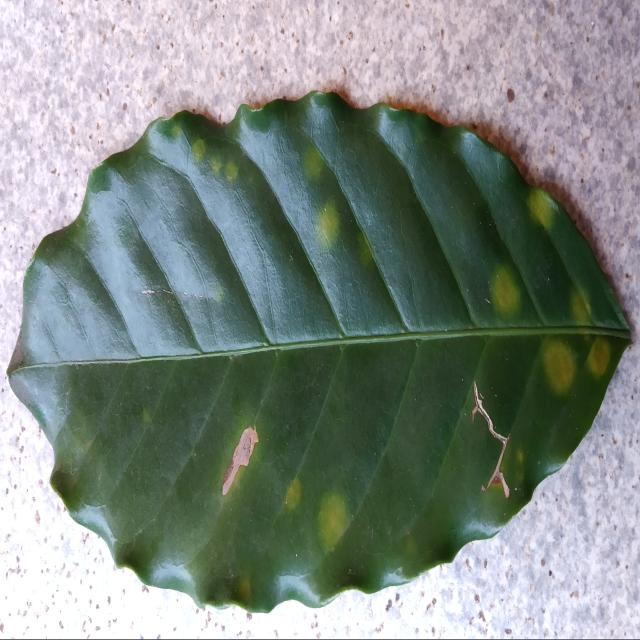Enfermedad-Roya: (7, 92, 633, 616)
